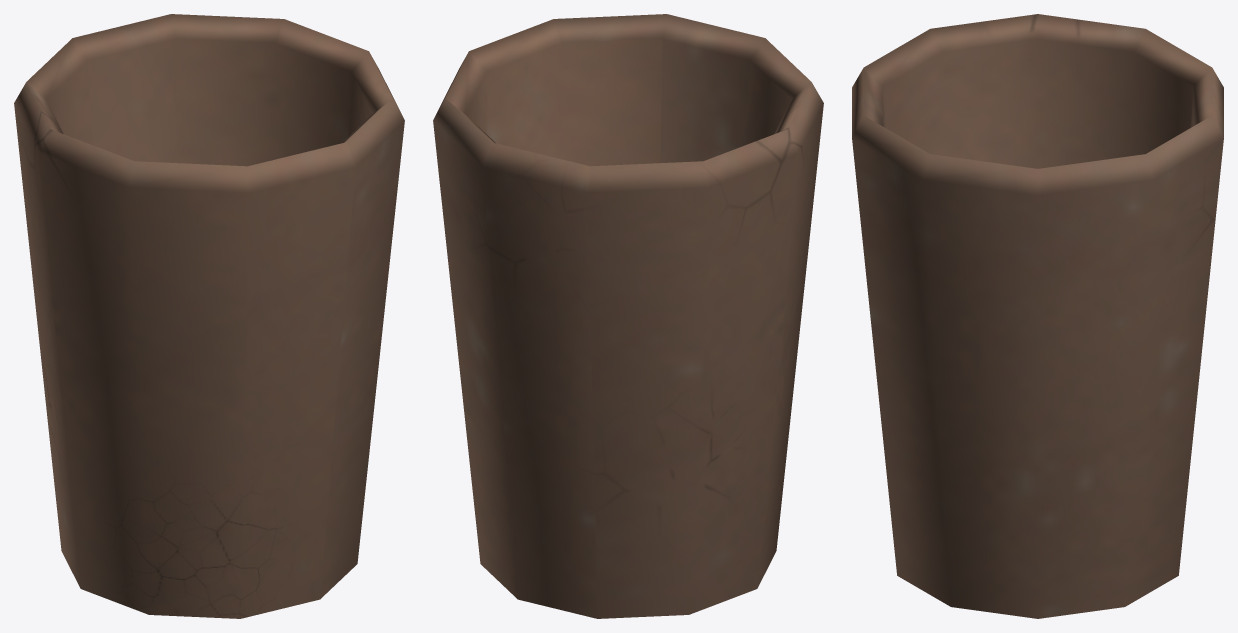
Rendered from obj_Object_CopoArgilaRachado.fbx.
The picture shows the model from 3 angles, left to right: view 1: azimuth 30°, elevation 25°; view 2: azimuth 150°, elevation 25°; view 3: azimuth 270°, elevation 25°; orthographic projection.
Visible parts, largest first — view 1: pCylinder1; view 2: pCylinder1; view 3: pCylinder1.
Boxes of the visible parts, box(x1,y1,x2,y2) form: pCylinder1: box(14, 14, 404, 618); pCylinder1: box(433, 14, 823, 618); pCylinder1: box(852, 14, 1223, 618).
Size of the model in its own units: 8.89 by 11.66 by 8.46.
Materials: 1 (1 with a texture image).
